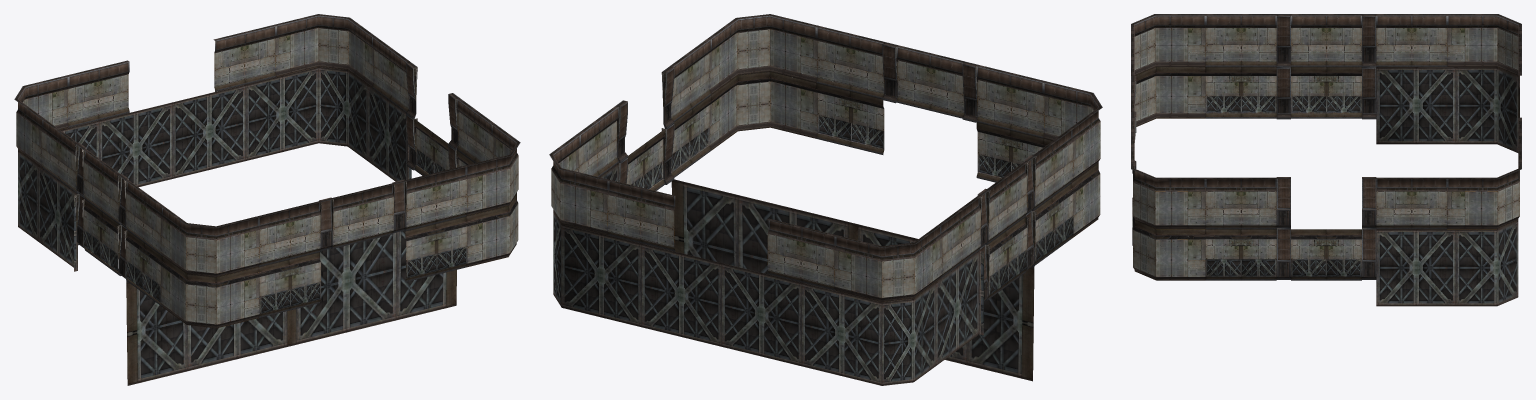
The model's file is STR_BigRoomWalls.FBX.
3 renders of one model, left to right at view 1: azimuth 30°, elevation 25°; view 2: azimuth 150°, elevation 25°; view 3: azimuth 270°, elevation 25°, orthographic. The views are drawn at different scales.
Parts seen in each view (by area): view 1: STR_BigRoomWalls; view 2: STR_BigRoomWalls; view 3: STR_BigRoomWalls.
Boxes of the visible parts, left/top/right/bottom form: STR_BigRoomWalls: left=14, top=14, right=520, bottom=385; STR_BigRoomWalls: left=549, top=14, right=1102, bottom=385; STR_BigRoomWalls: left=1131, top=14, right=1521, bottom=306.
Bounding box in the file's own units: 2768 × 1619 × 2750.
